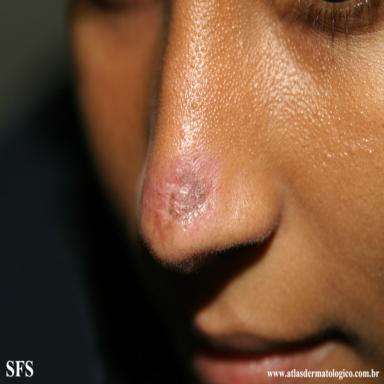Lupus-Erythematosus-Chronicus-Discoides: (144, 154, 221, 230)
